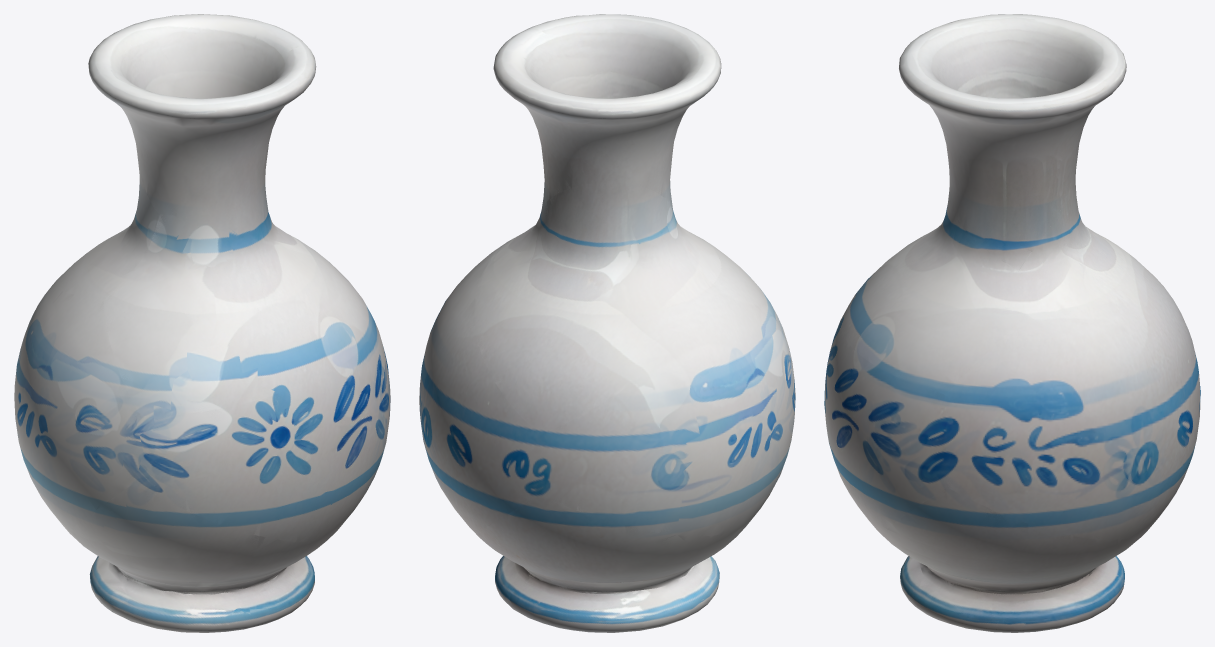
The model's file is Vase_Set.fbx.
3 renders of one model, left to right at view 1: azimuth 30°, elevation 25°; view 2: azimuth 150°, elevation 25°; view 3: azimuth 270°, elevation 25°, orthographic.
Visible parts, largest first — view 1: Vase_Intact, Vase_Shard_07, Vase_Shard_09, Vase_Shard_04, Vase_Shard_06, Vase_Shard_01, Vase_Shard_08, Vase_Shard_02, Vase_Shard_03; view 2: Vase_Intact, Vase_Shard_08, Vase_Shard_06, Vase_Shard_09, Vase_Shard_03, Vase_Shard_05, Vase_Shard_07, Vase_Shard_02, Vase_Shard_01; view 3: Vase_Intact, Vase_Shard_05, Vase_Shard_09, Vase_Shard_02, Vase_Shard_07, Vase_Shard_04, Vase_Shard_08, Vase_Shard_03, Vase_Shard_01.
Part boxes in pixels (bbox=[...]): Vase_Intact: bbox=[14, 14, 389, 627]; Vase_Shard_07: bbox=[103, 215, 373, 417]; Vase_Shard_09: bbox=[88, 14, 316, 218]; Vase_Shard_04: bbox=[133, 320, 390, 541]; Vase_Shard_06: bbox=[14, 289, 141, 530]; Vase_Shard_01: bbox=[71, 484, 326, 632]; Vase_Shard_08: bbox=[49, 169, 157, 301]; Vase_Shard_02: bbox=[277, 496, 363, 611]; Vase_Shard_03: bbox=[62, 523, 128, 611]; Vase_Intact: bbox=[419, 14, 794, 629]; Vase_Shard_08: bbox=[474, 182, 718, 434]; Vase_Shard_06: bbox=[538, 297, 795, 536]; Vase_Shard_09: bbox=[494, 14, 721, 207]; Vase_Shard_03: bbox=[478, 495, 743, 632]; Vase_Shard_05: bbox=[419, 248, 540, 530]; Vase_Shard_07: bbox=[501, 195, 782, 327]; Vase_Shard_02: bbox=[463, 519, 529, 606]; Vase_Shard_01: bbox=[688, 474, 780, 603]; Vase_Intact: bbox=[824, 15, 1200, 632]; Vase_Shard_05: bbox=[943, 315, 1200, 540]; Vase_Shard_09: bbox=[900, 14, 1126, 271]; Vase_Shard_02: bbox=[882, 488, 1141, 632]; Vase_Shard_07: bbox=[840, 195, 1026, 394]; Vase_Shard_04: bbox=[824, 331, 946, 533]; Vase_Shard_08: bbox=[1018, 171, 1191, 344]; Vase_Shard_03: bbox=[1089, 504, 1168, 608]; Vase_Shard_01: bbox=[868, 519, 932, 605].
Bounding box in the file's own units: 0.1919 × 0.3 × 0.192.
